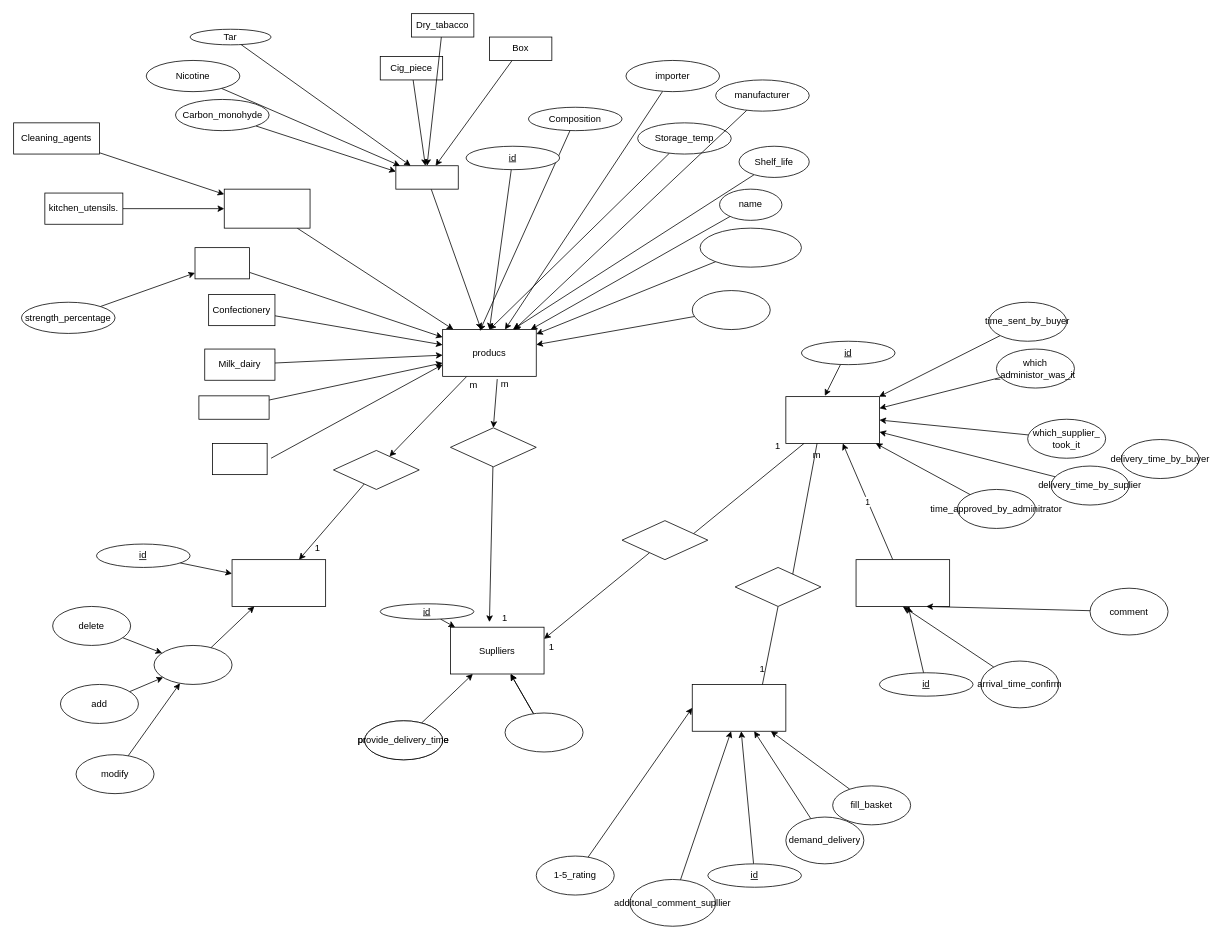
The diagram is 1223 pixels wide and 940 high, and some of its shapes have lost their labels. Each missing label, with the centre of its shape:
Administrator: the point at 278,582
alter_product: the point at 192,664
Buyer: the point at 738,707
change: the point at 376,469
Cosmetics: the point at 233,407
Drinks: the point at 222,263
Food: the point at 239,459
fulufll: the point at 664,540
get item: the point at 493,447
Household_items: the point at 266,208
manifacutre_date: the point at 730,310
orders: the point at 832,419
place: the point at 777,586
place_of_origin: the point at 750,247
review: the point at 902,582
review_order: the point at 543,732
Tabaco: the point at 426,177
